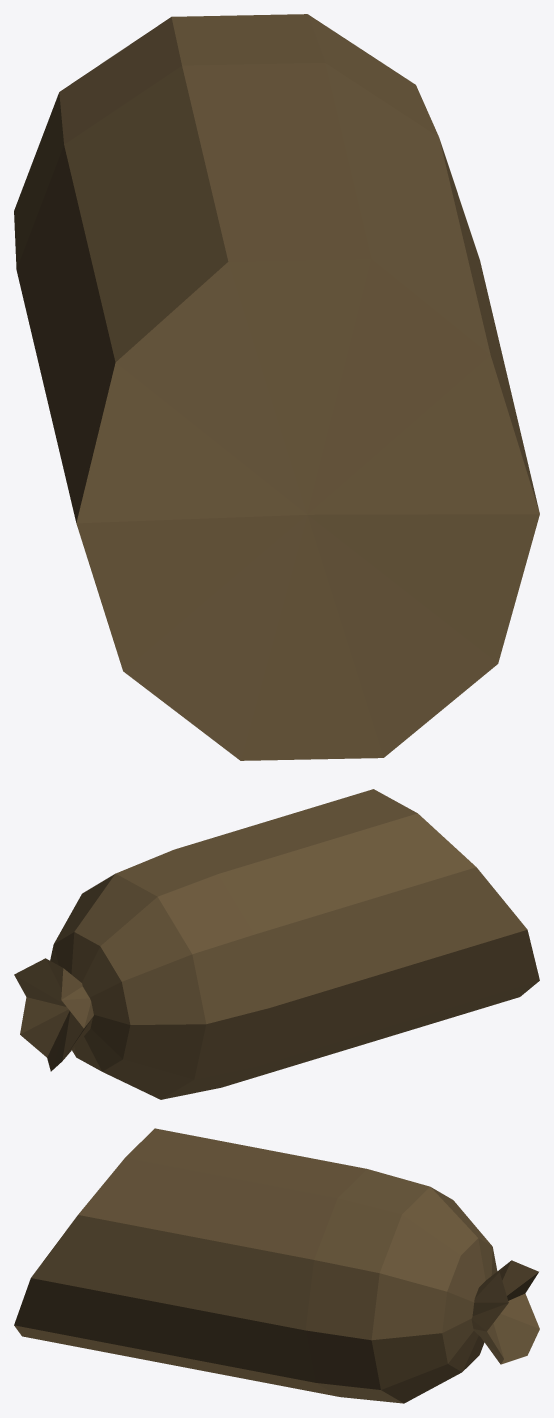
The model's file is ITFO_SAUSAGE.OBJ.
3 views of the same model, one above another, from view 1: azimuth 30°, elevation 25°; view 2: azimuth 150°, elevation 25°; view 3: azimuth 270°, elevation 25° (orthographic). The views are drawn at different scales.
Visible parts, largest first — view 1: ITFO_SAUSAGE; view 2: ITFO_SAUSAGE; view 3: ITFO_SAUSAGE.
Part boxes in pixels (<box>): ITFO_SAUSAGE: <box>14,14,539,760</box>; ITFO_SAUSAGE: <box>14,789,539,1099</box>; ITFO_SAUSAGE: <box>14,1128,539,1403</box>.
Size of the model in its own units: 0.3088 by 0.1917 by 0.4512.
